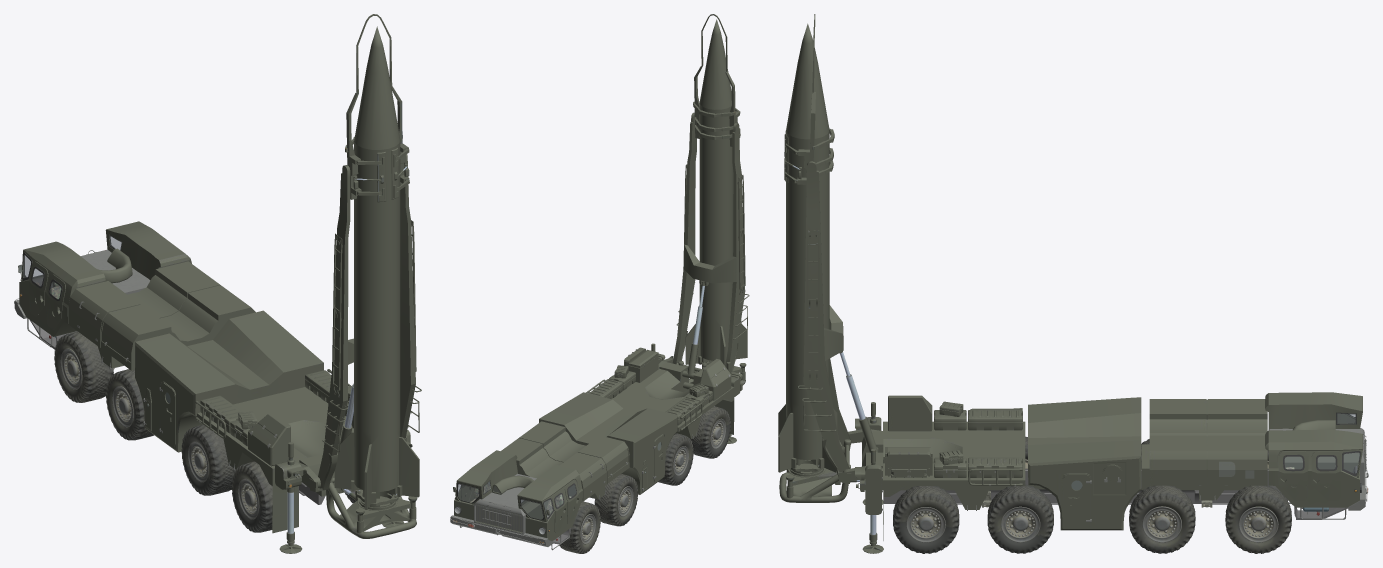
File: l_scud.glb
The picture shows the model from 3 angles, left to right: view 1: azimuth 30°, elevation 25°; view 2: azimuth 150°, elevation 25°; view 3: azimuth 270°, elevation 25°; orthographic projection. The views are drawn at different scales.
Visible parts, largest first — view 1: tbm|material_9, body|material_10, body|material_4, body|material_7, body|material_8, body|material_1, body|material_2, tbm|material_10, body|material, body|material_5, body|material_11, body|glass; view 2: tbm|material_9, body|material_10, body|material_8, body|material_4, body|material_2, body|material_7, body|material_1, body|material_5, body|material, tbm|material_10, body|glass; view 3: body|material_4, body|material_10, body|material_8, tbm|material_9, body|material_7, body|material_1, body|material_2, body|material, body|material_11, tbm|material_10, body|material_5, body|glass.
Part boxes in pixels (x1=…): tbm|material_9: x1=334, y1=26, x2=419, y2=509; body|material_10: x1=275, y1=135, x2=421, y2=553; body|material_4: x1=135, y1=310, x2=323, y2=452; body|material_7: x1=68, y1=261, x2=255, y2=370; body|material_8: x1=195, y1=369, x2=390, y2=533; body|material_1: x1=54, y1=331, x2=355, y2=532; body|material_2: x1=18, y1=221, x2=191, y2=336; tbm|material_10: x1=346, y1=14, x2=409, y2=202; body|material: x1=60, y1=348, x2=357, y2=519; body|material_5: x1=14, y1=248, x2=150, y2=347; body|material_11: x1=29, y1=319, x2=354, y2=504; body|glass: x1=18, y1=236, x2=121, y2=298; tbm|material_9: x1=685, y1=19, x2=747, y2=365; body|material_10: x1=651, y1=101, x2=749, y2=443; body|material_8: x1=586, y1=347, x2=734, y2=438; body|material_4: x1=539, y1=392, x2=677, y2=494; body|material_2: x1=453, y1=450, x2=582, y2=541; body|material_7: x1=501, y1=421, x2=629, y2=501; body|material_1: x1=559, y1=406, x2=730, y2=553; body|material_5: x1=450, y1=473, x2=569, y2=550; body|material: x1=580, y1=418, x2=726, y2=544; tbm|material_10: x1=694, y1=14, x2=740, y2=285; body|glass: x1=455, y1=482, x2=575, y2=533; body|material_4: x1=1028, y1=397, x2=1141, y2=530; body|material_10: x1=779, y1=128, x2=883, y2=553; body|material_8: x1=883, y1=395, x2=1025, y2=540; tbm|material_9: x1=778, y1=23, x2=837, y2=472; body|material_7: x1=1141, y1=399, x2=1267, y2=501; body|material_1: x1=893, y1=436, x2=1291, y2=553; body|material_2: x1=1265, y1=392, x2=1362, y2=507; body|material: x1=906, y1=459, x2=1278, y2=542; body|material_11: x1=883, y1=468, x2=1348, y2=519; tbm|material_10: x1=784, y1=14, x2=842, y2=353; body|material_5: x1=1269, y1=420, x2=1368, y2=519; body|glass: x1=1285, y1=414, x2=1361, y2=491.
Size of the model in its own units: 3.29 by 12.78 by 13.37.
14 materials, 13 textured.
